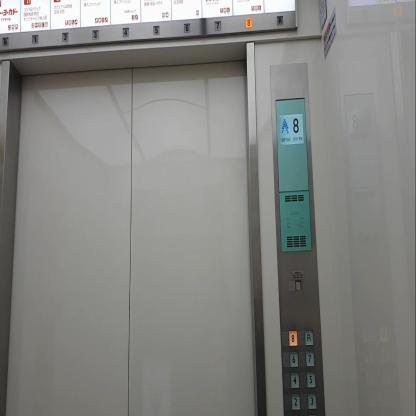1: (31, 32, 39, 44)
2: (291, 392, 301, 410), (61, 30, 69, 42)
3: (307, 392, 317, 409), (91, 28, 99, 40)
4: (290, 372, 300, 388), (121, 25, 130, 38)
5: (306, 370, 316, 388), (152, 24, 160, 36)
6: (288, 350, 299, 368), (183, 22, 190, 33)
7: (304, 350, 315, 368), (214, 21, 221, 30)
8: (288, 329, 298, 347), (244, 15, 253, 29)
B1: (1, 35, 9, 47)
R: (304, 329, 314, 346), (275, 13, 285, 27)
empty: (294, 277, 302, 292)
led: (278, 112, 303, 146)
